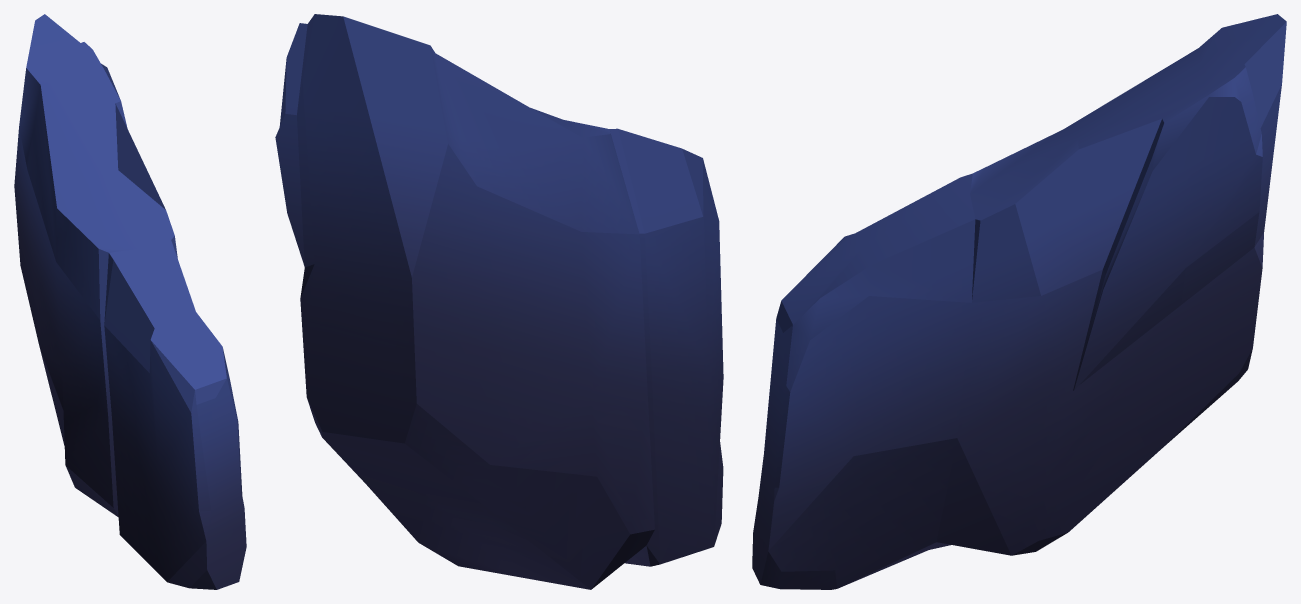
File: caveRunning2.fbx
The picture shows the model from 3 angles, left to right: view 1: azimuth 30°, elevation 25°; view 2: azimuth 150°, elevation 25°; view 3: azimuth 270°, elevation 25°; orthographic projection. The views are drawn at different scales.
Visible parts, largest first — view 1: caveRunning2; view 2: caveRunning2; view 3: caveRunning2.
Boxes of the visible parts, left/top/right/bottom form: caveRunning2: left=14, top=14, right=246, bottom=589; caveRunning2: left=275, top=14, right=723, bottom=589; caveRunning2: left=752, top=14, right=1286, bottom=589.
Size of the model in its own units: 172 by 606 by 516.
